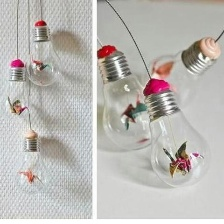light_bulb: (138, 72, 216, 192), (94, 39, 164, 155), (129, 34, 223, 116), (21, 16, 67, 88), (9, 128, 53, 192), (0, 56, 38, 124)
